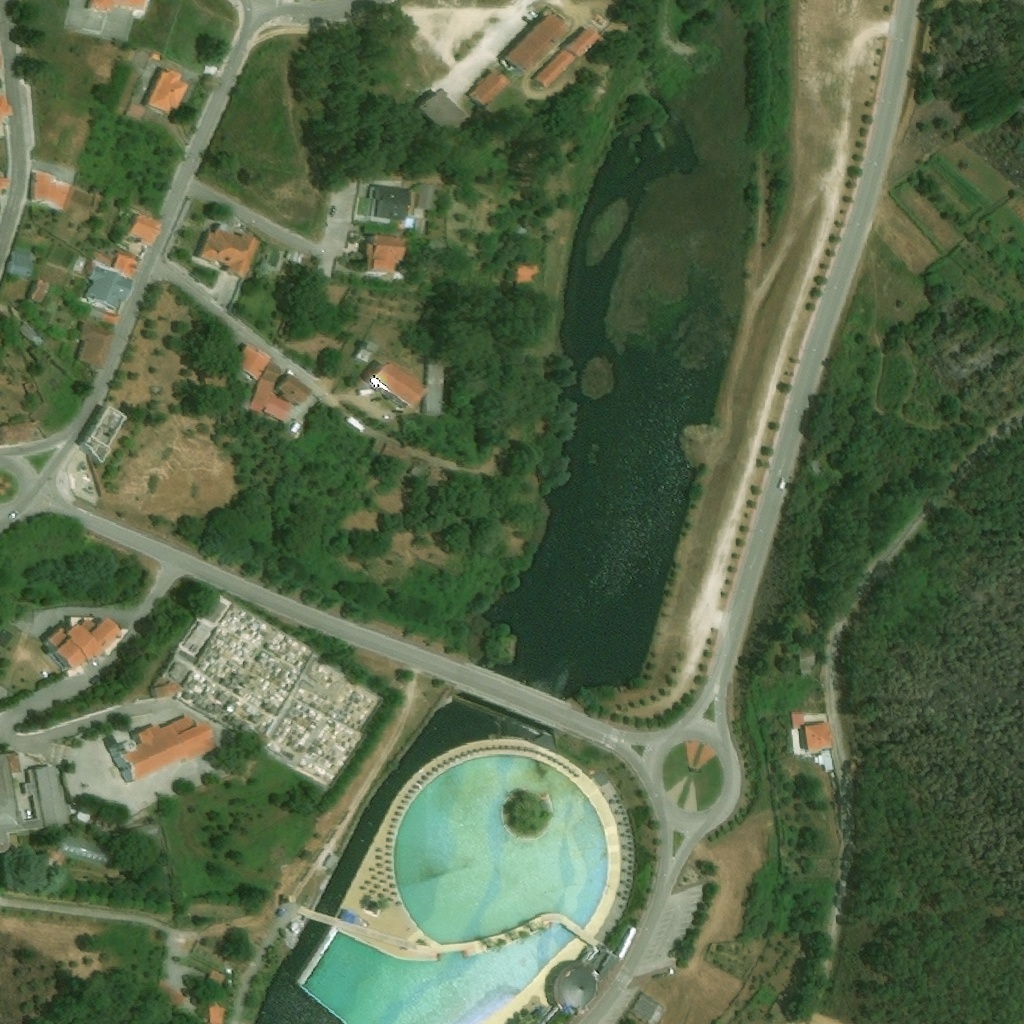0 no-damage: (109, 716, 216, 786), (0, 752, 72, 853), (505, 12, 573, 75), (50, 617, 129, 670), (200, 228, 263, 279), (250, 357, 294, 422), (417, 88, 472, 139), (373, 360, 428, 408), (53, 836, 118, 870), (144, 68, 191, 114), (86, 267, 134, 310), (466, 67, 512, 111), (80, 321, 118, 370), (360, 234, 407, 273), (532, 49, 577, 88), (35, 172, 78, 210), (235, 346, 274, 381), (374, 185, 412, 220), (127, 212, 163, 248), (118, 821, 162, 846), (568, 28, 604, 57), (183, 622, 212, 657), (426, 358, 445, 411), (280, 375, 313, 405), (286, 251, 326, 275), (89, 0, 148, 14), (155, 985, 188, 1010), (150, 675, 184, 699), (806, 723, 834, 751), (19, 319, 47, 347), (3, 421, 35, 444), (616, 927, 639, 959), (604, 16, 630, 41), (113, 254, 139, 277), (203, 597, 226, 622), (514, 264, 540, 285), (12, 251, 31, 277), (169, 660, 190, 683), (31, 279, 51, 303), (30, 402, 52, 423), (0, 95, 15, 125), (206, 372, 230, 390), (206, 971, 226, 992), (0, 166, 12, 195), (102, 311, 122, 327), (421, 185, 433, 209), (357, 347, 374, 363), (89, 308, 106, 322), (210, 1006, 224, 1023), (793, 713, 806, 730), (429, 240, 449, 250), (367, 337, 381, 351), (403, 218, 415, 229), (415, 218, 426, 229), (517, 225, 528, 235), (0, 48, 5, 68)
4 un-classified: (260, 733, 268, 745)
